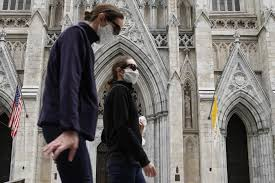mask: (92, 11, 122, 43), (119, 57, 139, 84)
